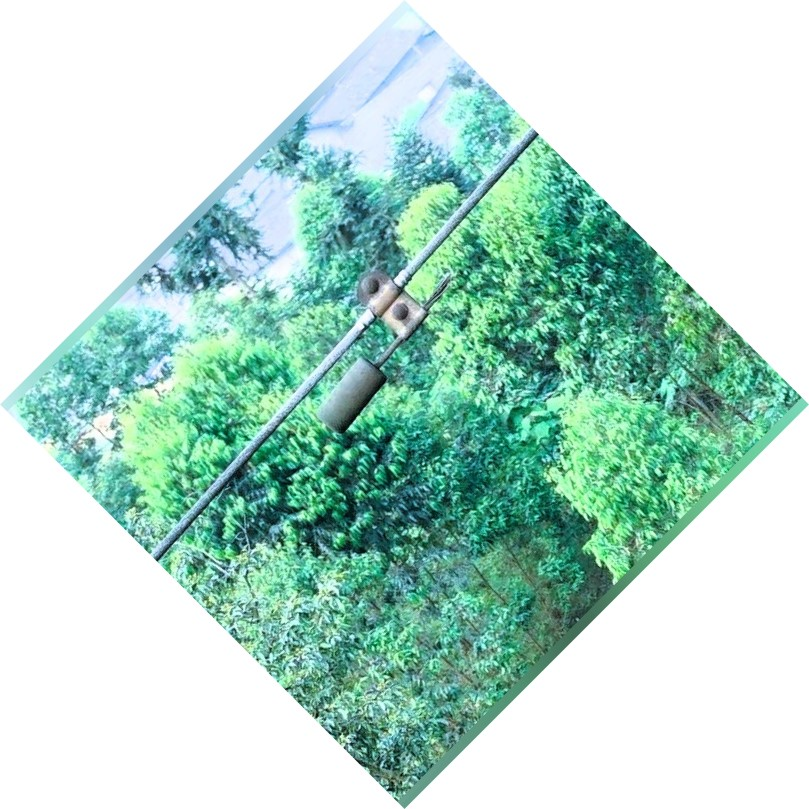Damage of shockproof hammer: (299, 258, 484, 434)
